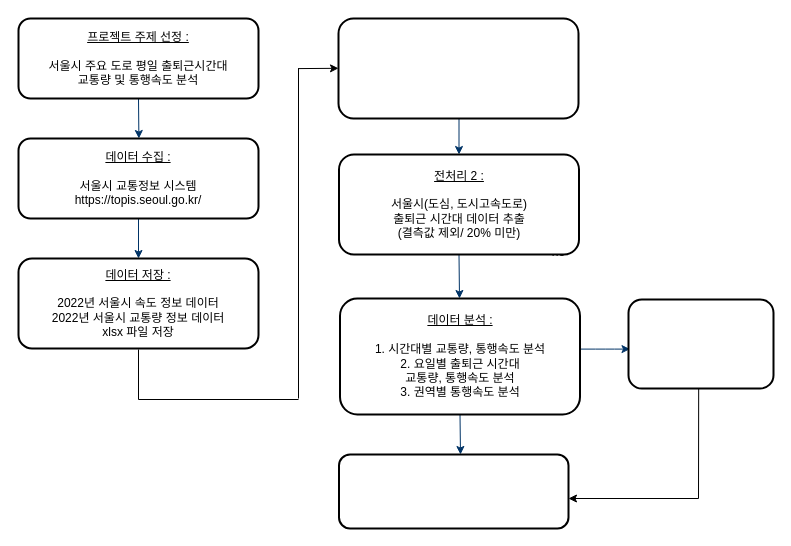
Image size: 791x546. Some labels were removed from this diagram. The shapes that lost their labels are listed below. From the top down, each one's centre as x and y in pixels, then its label:
At point 458,68: "전처리 1 : 서울시(도심, 도시고속도로) 평일 데이터 추출 (결측값 제외/ 20% 미만)".
At point 700,343: "시각화 : matplotlib (folium.Choropleth) 활용".
At point 453,491: "데이터 표출 : streamlit 활용하여 분석 내용 표출".
